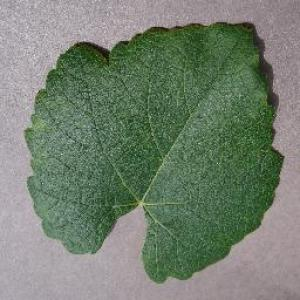Folha: (24, 20, 284, 284)
